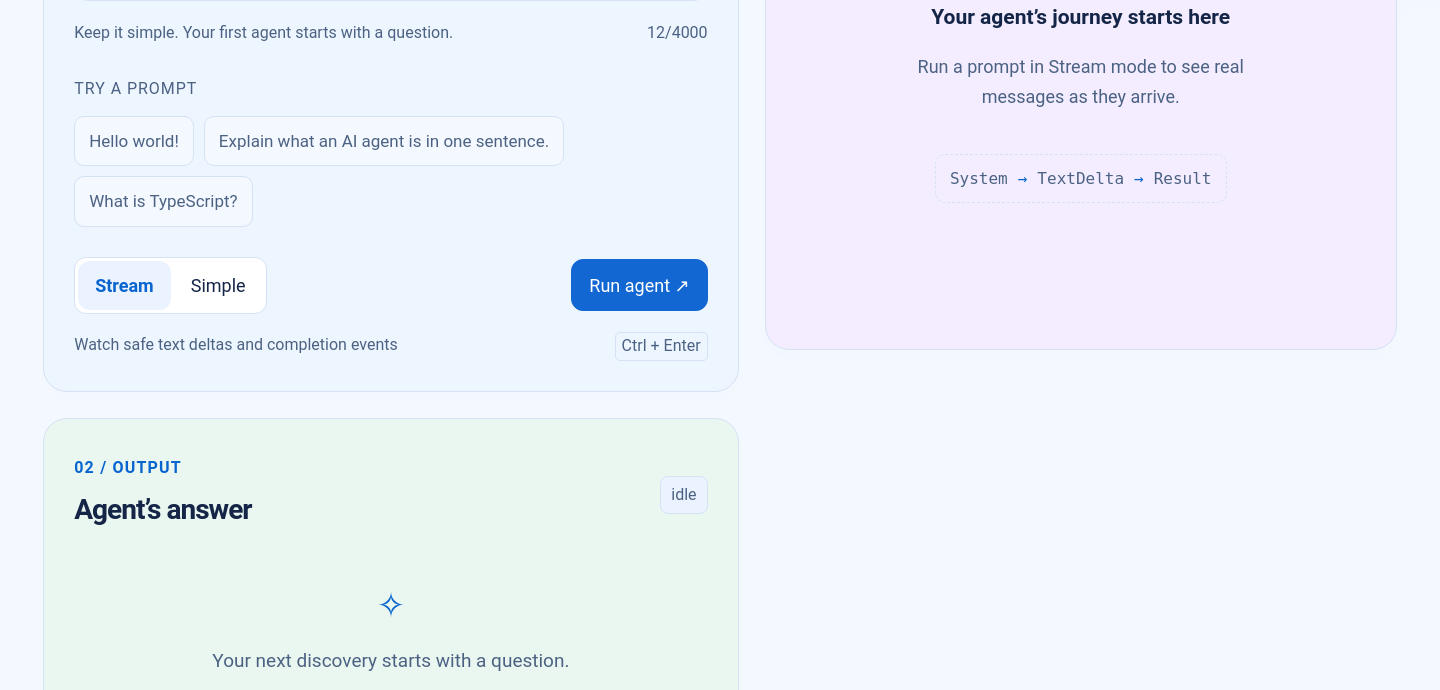
Test: React agent playground › surfaces completion without a final result as failure
(page scrolled)
Click the button "Run agent ↗". click: (640, 285)
box: [571,259,708,311]
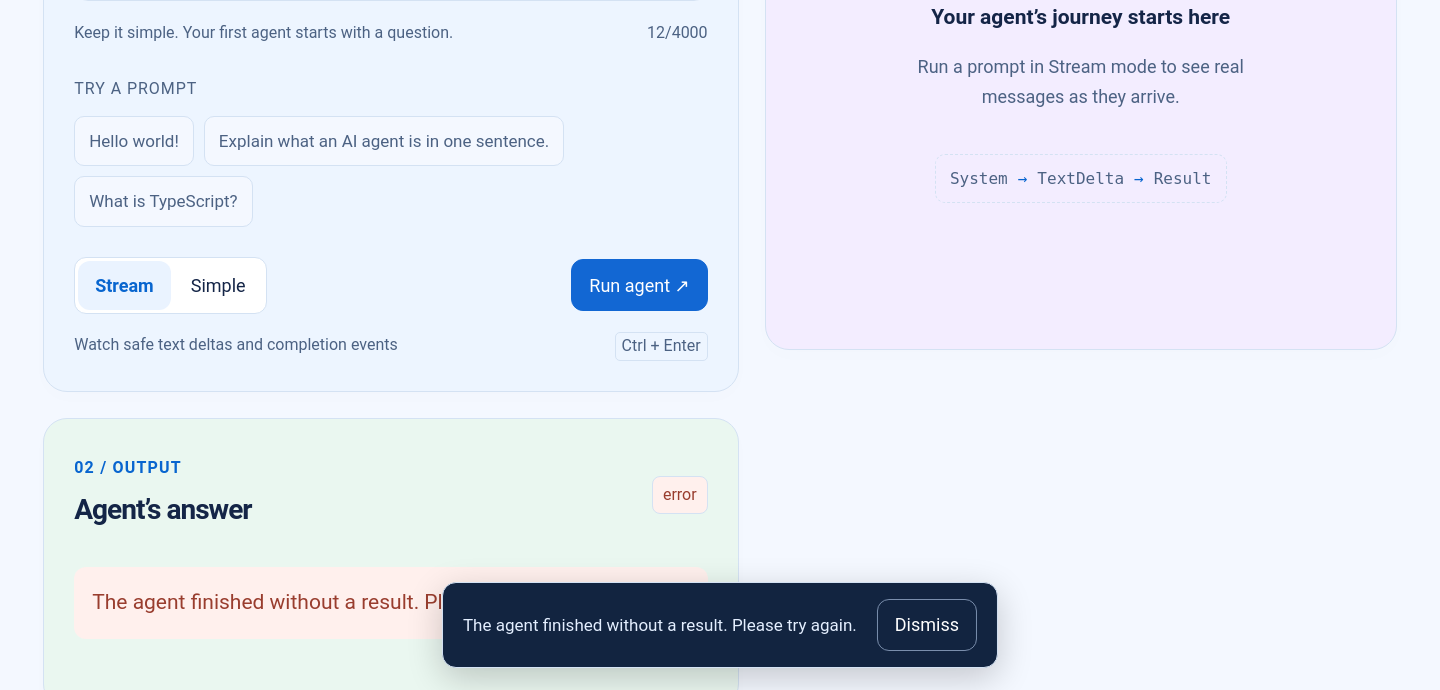
Expected: the message "The agent finished without a result. Please try again." is shown, [74,567,708,638]
